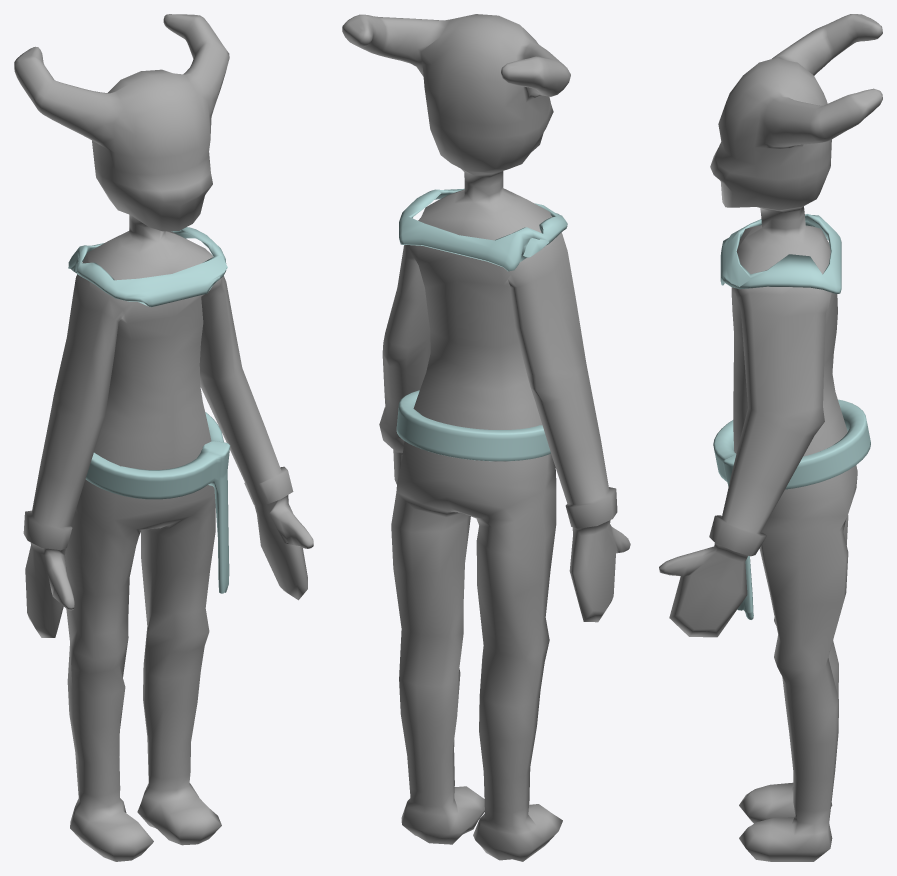
File: horned_aide_model.fbx
3 views of the same model, side by side, from view 1: azimuth 30°, elevation 25°; view 2: azimuth 150°, elevation 25°; view 3: azimuth 270°, elevation 25° (orthographic). The views are drawn at different scales.
Visible parts, largest first — view 1: general_creature_subordinate_pCube16; view 2: general_creature_subordinate_pCube16; view 3: general_creature_subordinate_pCube16.
Part boxes in pixels (box(x1,y1,x2,y2)): general_creature_subordinate_pCube16: box(14, 14, 313, 861); general_creature_subordinate_pCube16: box(342, 14, 630, 861); general_creature_subordinate_pCube16: box(659, 14, 882, 861).
Size of the model in its own units: 174 by 546 by 142.
